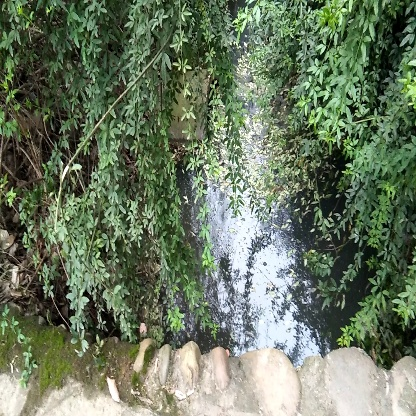grass: (147, 199, 226, 328)
